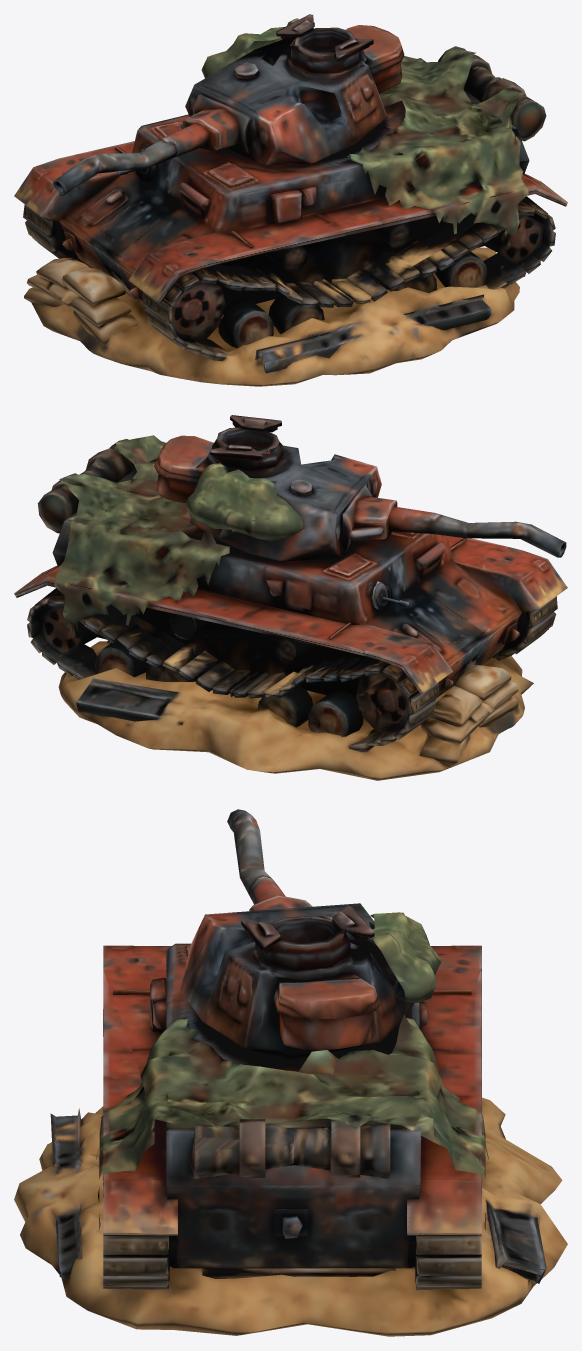
The model's file is wreck_2.glb.
3 views of the same model, one above another, from view 1: azimuth 30°, elevation 25°; view 2: azimuth 150°, elevation 25°; view 3: azimuth 270°, elevation 25° (orthographic). The views are drawn at different scales.
Visible parts, largest first — view 1: geometry_0; view 2: geometry_0; view 3: geometry_0.
Part boxes in pixels (x1,y1,x2,y2): geometry_0: (14, 14, 567, 386); geometry_0: (14, 415, 567, 780); geometry_0: (14, 809, 567, 1336).
Bounding box in the file's own units: 0.9609 × 0.4819 × 0.7388.
Materials: 1 (1 with a texture image).
